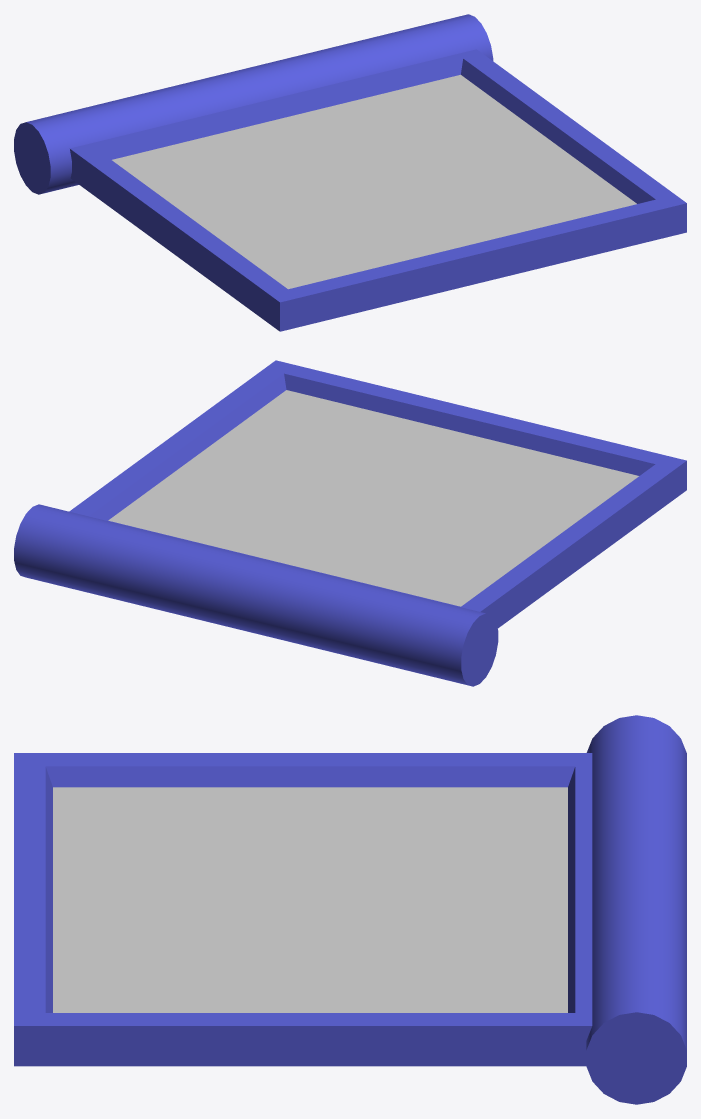
The model's file is SK_ScreenMicrowave.fbx.
3 views of the same model, one above another, from view 1: azimuth 30°, elevation 25°; view 2: azimuth 150°, elevation 25°; view 3: azimuth 270°, elevation 25° (orthographic). The views are drawn at different scales.
Visible parts, largest first — view 1: SK_ScreenMicrowave; view 2: SK_ScreenMicrowave; view 3: SK_ScreenMicrowave.
Boxes of the visible parts, <box> form: SK_ScreenMicrowave: <box>14,14,686,331</box>; SK_ScreenMicrowave: <box>14,360,686,686</box>; SK_ScreenMicrowave: <box>14,715,686,1104</box>.
Bounding box in the file's own units: 7.84 × 1.14 × 7.51.
